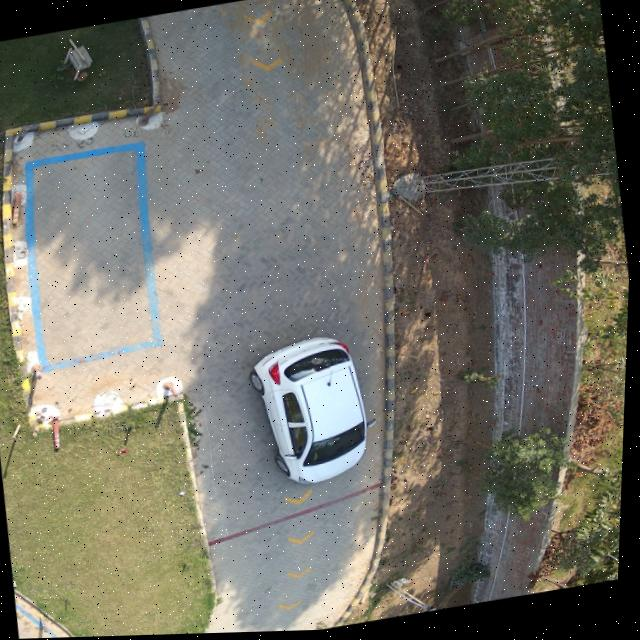car: (250, 339, 370, 487)
